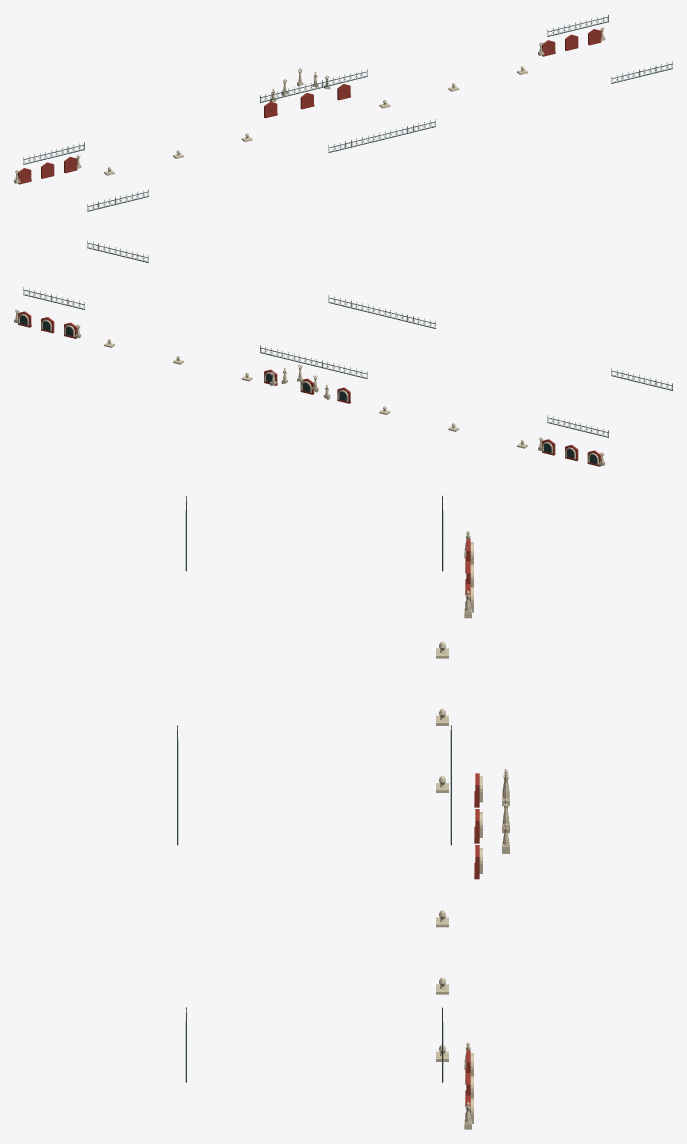
The model's file is KOL_T1_WRITERS__07_Roof_Ornaments.fbx.
3 renders of one model, top to bottom at view 1: azimuth 30°, elevation 25°; view 2: azimuth 150°, elevation 25°; view 3: azimuth 270°, elevation 25°, orthographic. The views are drawn at different scales.
Parts seen in each view (by area): view 1: KOL_T1_WRITERS__07_Roof_Ornaments__KOL_T1_HeritageRed, KOL_T1_WRITERS__07_Roof_Ornaments__KOL_T1_HeritageIron, KOL_T1_WRITERS__07_Roof_Ornaments__KOL_T1_HeritageIron.001, KOL_T1_WRITERS__07_Roof_Ornaments__KOL_T1_HeritageCream; view 2: KOL_T1_WRITERS__07_Roof_Ornaments__KOL_T1_HeritageCream, KOL_T1_WRITERS__07_Roof_Ornaments__KOL_T1_HeritageIron, KOL_T1_WRITERS__07_Roof_Ornaments__KOL_T1_HeritageIron.001, KOL_T1_WRITERS__07_Roof_Ornaments__KOL_T1_HeritageRed, KOL_T1_WRITERS__07_Roof_Ornaments__KOL_T1_HeritageGlass; view 3: KOL_T1_WRITERS__07_Roof_Ornaments__KOL_T1_HeritageCream, KOL_T1_WRITERS__07_Roof_Ornaments__KOL_T1_HeritageRed.
Part boxes in pixels (x1,y1,x2,y2): KOL_T1_WRITERS__07_Roof_Ornaments__KOL_T1_HeritageRed: (18, 29, 601, 184); KOL_T1_WRITERS__07_Roof_Ornaments__KOL_T1_HeritageIron: (23, 69, 435, 164); KOL_T1_WRITERS__07_Roof_Ornaments__KOL_T1_HeritageIron.001: (60, 14, 672, 211); KOL_T1_WRITERS__07_Roof_Ornaments__KOL_T1_HeritageCream: (14, 27, 605, 183); KOL_T1_WRITERS__07_Roof_Ornaments__KOL_T1_HeritageCream: (14, 309, 605, 465); KOL_T1_WRITERS__07_Roof_Ornaments__KOL_T1_HeritageIron: (260, 295, 608, 437); KOL_T1_WRITERS__07_Roof_Ornaments__KOL_T1_HeritageIron.001: (23, 240, 672, 427); KOL_T1_WRITERS__07_Roof_Ornaments__KOL_T1_HeritageRed: (18, 311, 600, 466); KOL_T1_WRITERS__07_Roof_Ornaments__KOL_T1_HeritageGlass: (20, 315, 596, 463); KOL_T1_WRITERS__07_Roof_Ornaments__KOL_T1_HeritageCream: (436, 531, 509, 1129); KOL_T1_WRITERS__07_Roof_Ornaments__KOL_T1_HeritageRed: (465, 539, 479, 1115).
Size of the model in its own units: 308 by 21.64 by 75.45.
